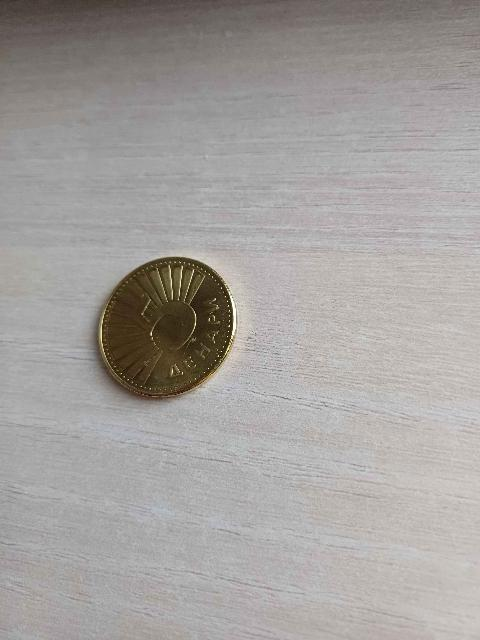5_coin: (100, 258, 236, 396)
